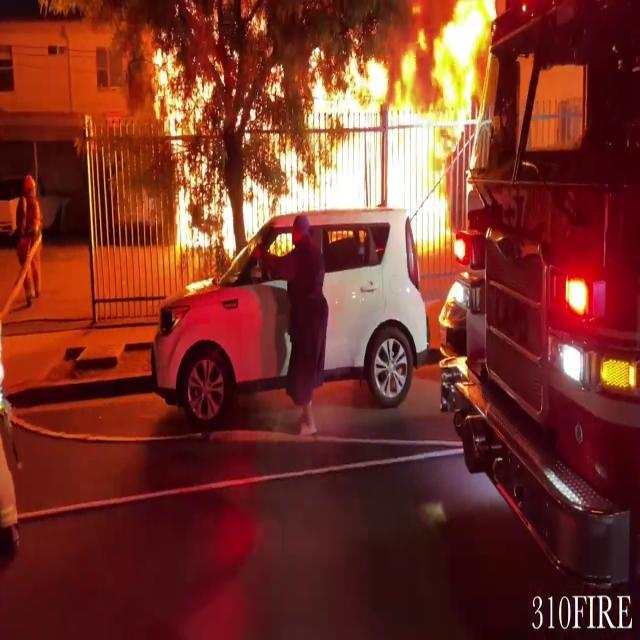Fire: (148, 0, 506, 256)
